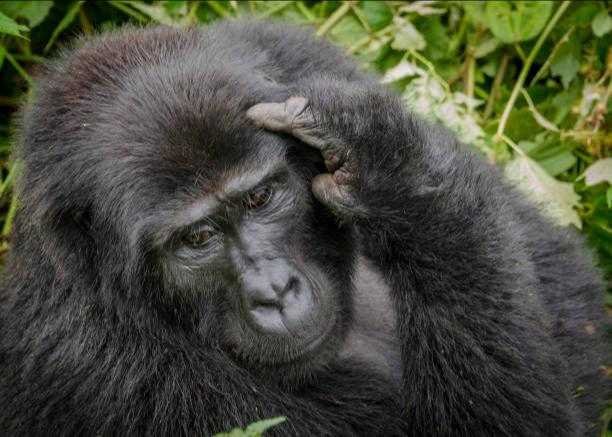goriile_montagne: (10, 28, 608, 426)
